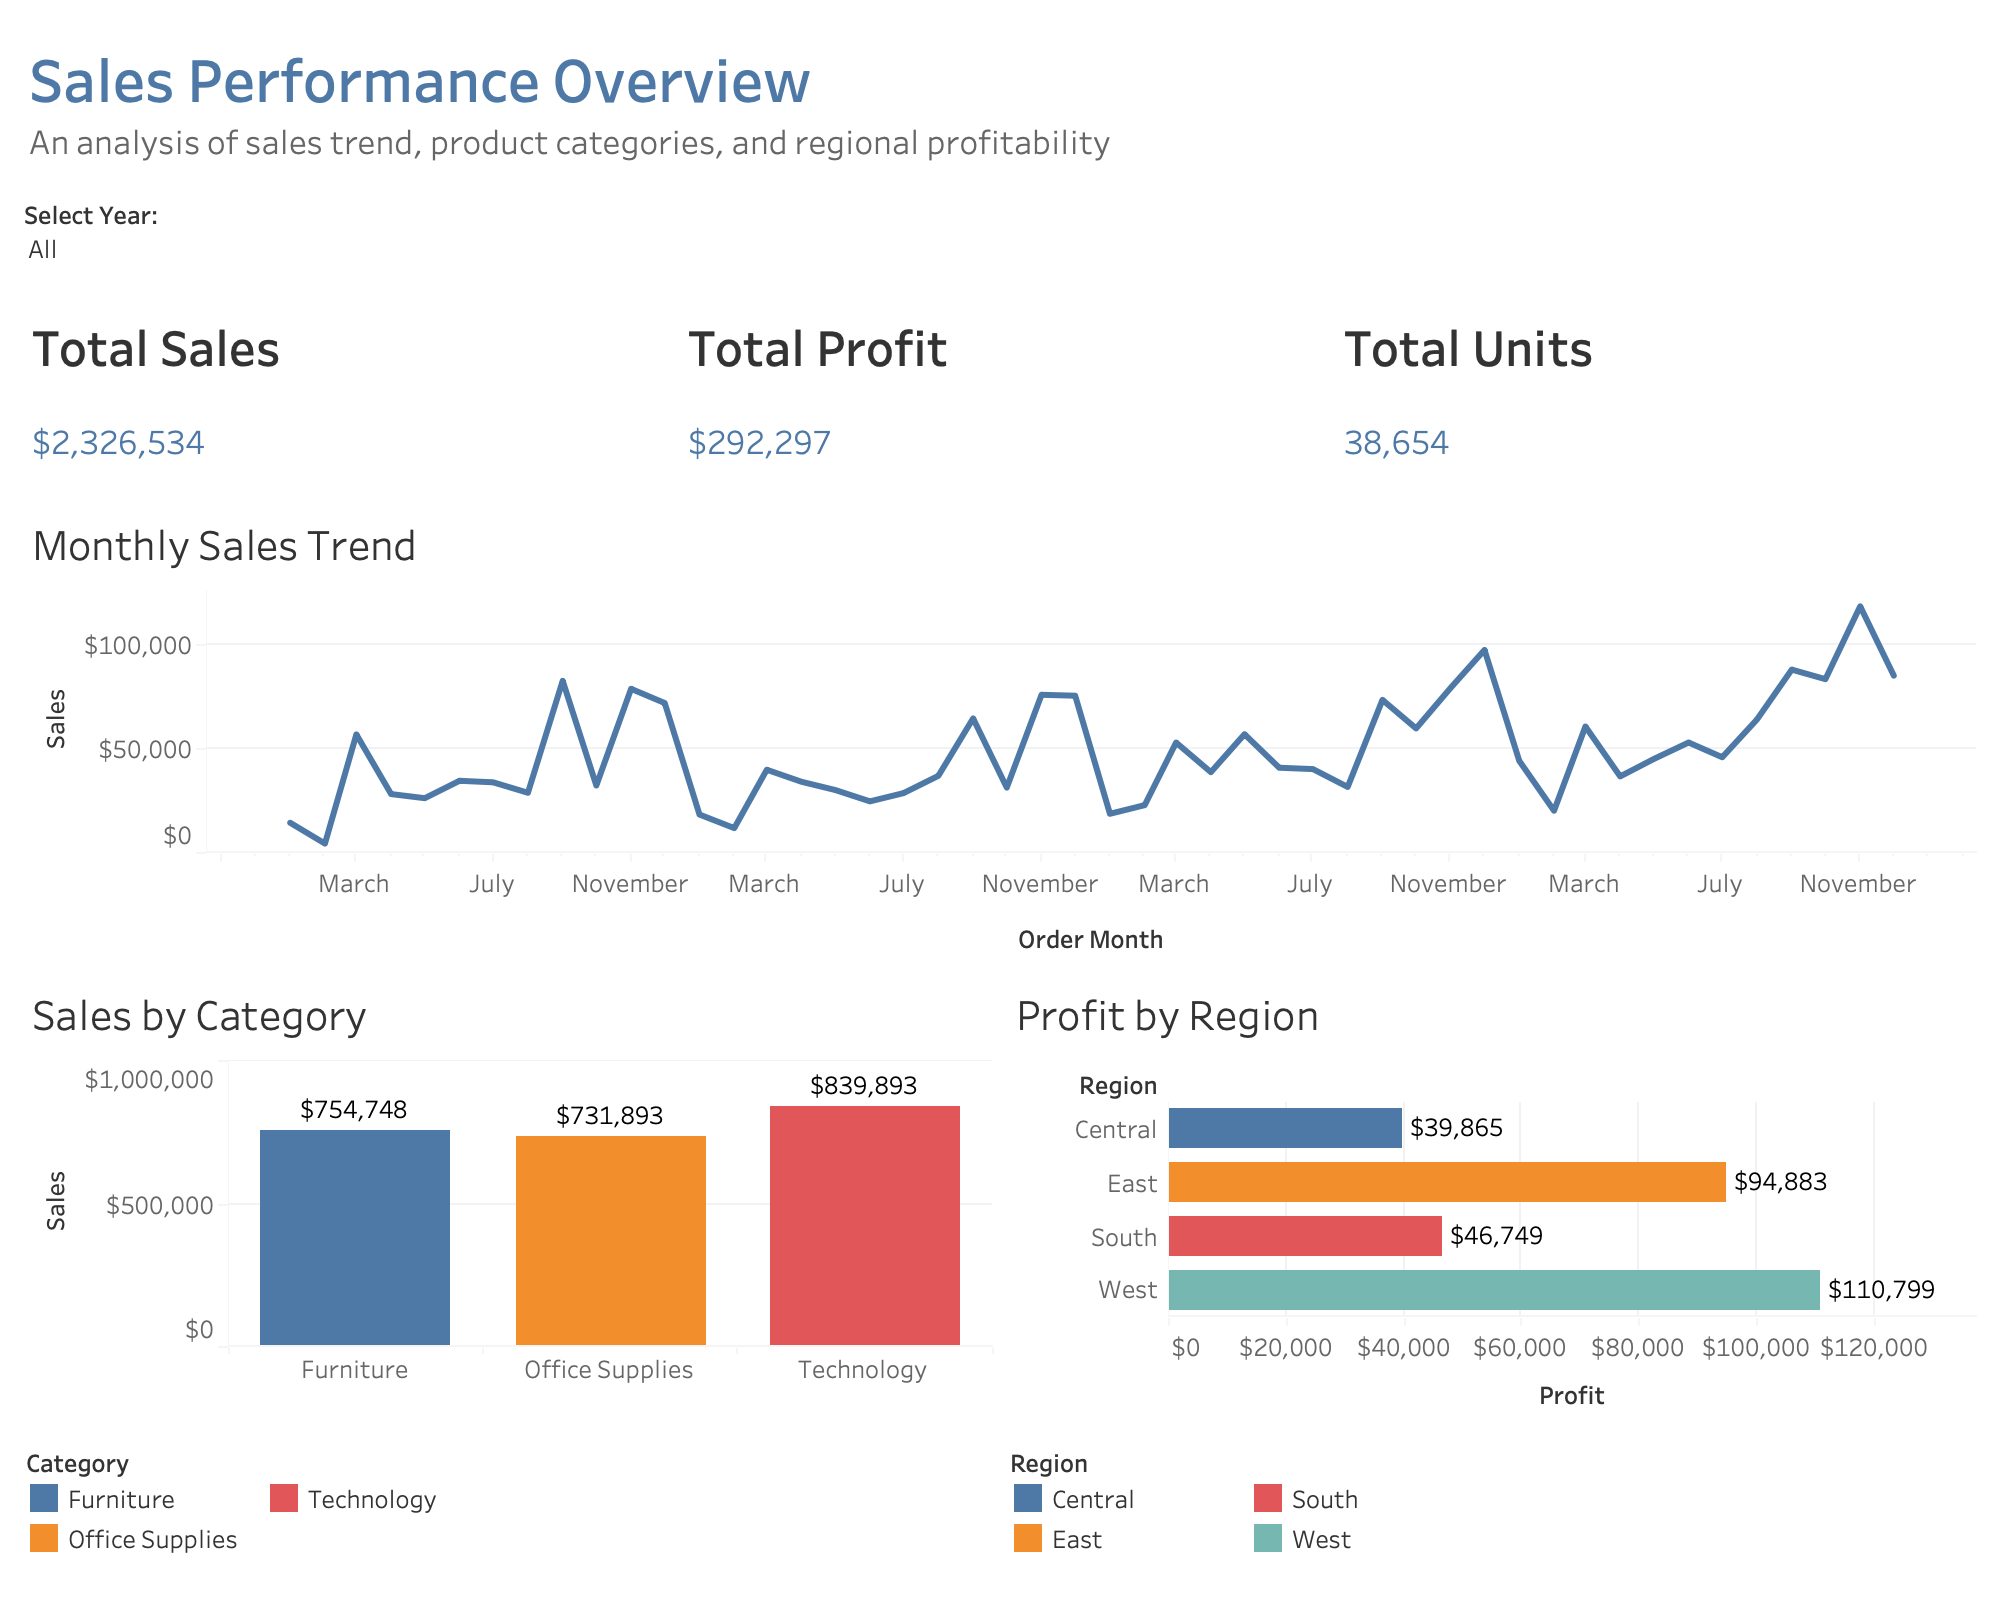

The dashboard page shown, as its layout file describes it:
{"tool":"tableau","page":{"name":"Sales Performance Overview ","canvas":[1000,800],"ordinal":0},"visuals":[{"type":"text","box":[8,8,984,86.2]},{"type":"filter","title":"Monthly Sales Trend","param":"[federated.1vw2hf618w1d7919nnnab1o0opze].[yr:Order Date:ok]","box":[8,94.2,984,53.1]},{"type":"worksheet","title":"Total Sales","mark":"Automatic","box":[8,147,328,101]},{"type":"worksheet","title":"Total Profit","mark":"Automatic","box":[336,147,328,101]},{"type":"worksheet","title":"Total Units","mark":"Automatic","box":[664,147,328,101]},{"type":"worksheet","title":"Monthly Sales Trend","mark":"Line","rows":["Sales"],"cols":["Order Date"],"box":[8,248.5,984,234.2]},{"type":"worksheet","title":"Sales by Category","mark":"Bar","rows":["Sales"],"cols":["Category"],"box":[8,483,492,234]},{"type":"worksheet","title":"Profit by Region","mark":"Automatic","rows":["Region"],"cols":["Profit"],"box":[500,483,492,234]},{"type":"legend","title":"Sales by Category","param":"[federated.1vw2hf618w1d7919nnnab1o0opze].[none:Category:nk]","box":[8,716.8,492,75.2]},{"type":"legend","title":"Profit by Region","param":"[federated.1vw2hf618w1d7919nnnab1o0opze].[none:Region:nk]","box":[500,716.8,492,75.2]}]}

Visuals, with their boxes in screenshot pixels (x1, y1, x2, y2), scaled from the page's 1000x800 canvas onto the 2000x1600 screenshot:
text: {"x1": 16, "y1": 16, "x2": 1984, "y2": 188}
"Monthly Sales Trend" filter: {"x1": 16, "y1": 188, "x2": 1984, "y2": 295}
"Total Sales" worksheet: {"x1": 16, "y1": 294, "x2": 672, "y2": 496}
"Total Profit" worksheet: {"x1": 672, "y1": 294, "x2": 1328, "y2": 496}
"Total Units" worksheet: {"x1": 1328, "y1": 294, "x2": 1984, "y2": 496}
"Monthly Sales Trend" worksheet (Line marks): {"x1": 16, "y1": 497, "x2": 1984, "y2": 965}
"Sales by Category" worksheet (Bar marks): {"x1": 16, "y1": 966, "x2": 1000, "y2": 1434}
"Profit by Region" worksheet: {"x1": 1000, "y1": 966, "x2": 1984, "y2": 1434}
"Sales by Category" legend: {"x1": 16, "y1": 1434, "x2": 1000, "y2": 1584}
"Profit by Region" legend: {"x1": 1000, "y1": 1434, "x2": 1984, "y2": 1584}
